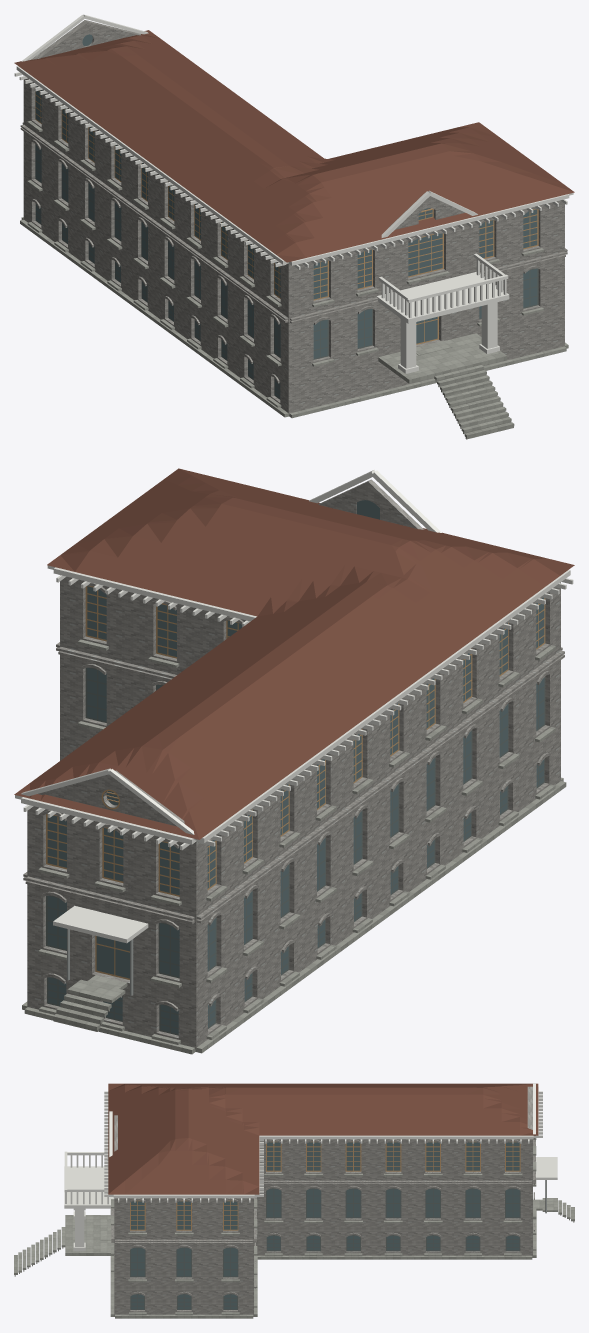
3 renders of one model, top to bottom at view 1: azimuth 30°, elevation 25°; view 2: azimuth 150°, elevation 25°; view 3: azimuth 270°, elevation 25°, orthographic. The views are drawn at different scales.
Parts seen in each view (by area): view 1: speerhall__brick, speerhall__roof, speerhall__trim, speerhall__glass, speerhall__stone, speerhall, speerhall__frame, speerhall__lowerframe; view 2: speerhall__brick, speerhall__roof, speerhall__glass, speerhall__trim, speerhall__stone, speerhall__lowerframe, speerhall__frame, speerhall; view 3: speerhall__brick, speerhall__roof, speerhall__glass, speerhall__trim, speerhall__stone, speerhall__lowerframe, speerhall__frame, speerhall.
Boxes of the visible parts, bbox=[...] form: speerhall__brick: bbox=[20, 20, 567, 414]; speerhall__roof: bbox=[14, 30, 574, 262]; speerhall__trim: bbox=[14, 14, 573, 373]; speerhall__glass: bbox=[35, 34, 537, 398]; speerhall__stone: bbox=[20, 121, 568, 439]; speerhall: bbox=[434, 365, 514, 437]; speerhall__frame: bbox=[35, 87, 538, 344]; speerhall__lowerframe: bbox=[35, 144, 538, 399]; speerhall__brick: bbox=[23, 479, 564, 1049]; speerhall__roof: bbox=[14, 468, 574, 839]; speerhall__glass: bbox=[47, 500, 544, 1033]; speerhall__trim: bbox=[15, 469, 573, 943]; speerhall__stone: bbox=[22, 639, 566, 1054]; speerhall__lowerframe: bbox=[46, 667, 545, 1035]; speerhall__frame: bbox=[46, 586, 545, 979]; speerhall: bbox=[52, 993, 111, 1030]; speerhall__brick: bbox=[111, 1086, 535, 1315]; speerhall__roof: bbox=[108, 1083, 538, 1194]; speerhall__glass: bbox=[131, 1142, 519, 1309]; speerhall__trim: bbox=[64, 1083, 557, 1251]; speerhall__stone: bbox=[14, 1138, 574, 1318]; speerhall__lowerframe: bbox=[130, 1188, 520, 1309]; speerhall__frame: bbox=[130, 1141, 520, 1230]; speerhall: bbox=[14, 1200, 574, 1274].
Size of the model in its own units: 19.44 by 12.31 by 40.22.
Materials: 26 (20 with a texture image).
